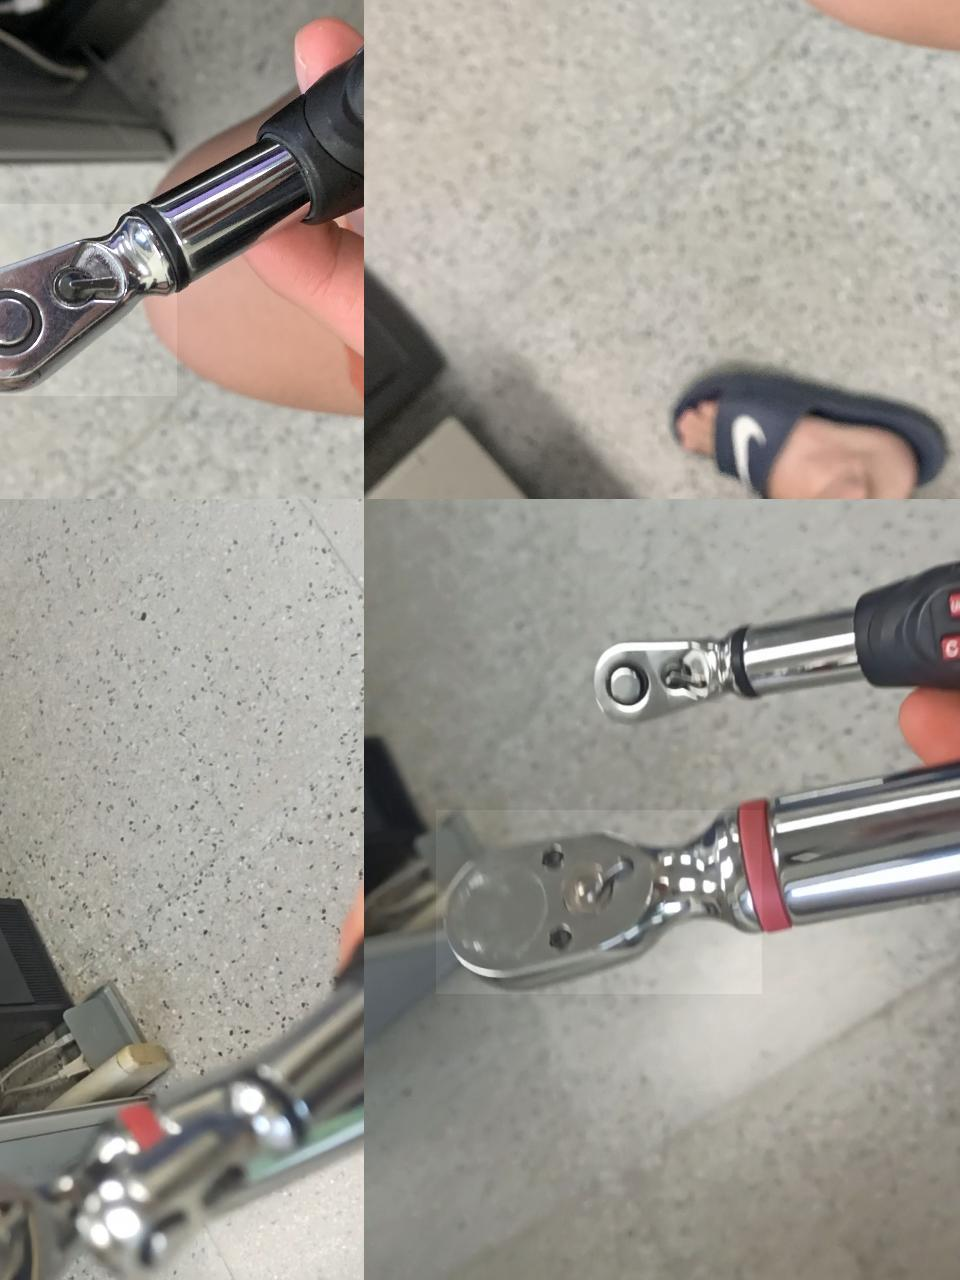Tool: (435, 809, 761, 993), (0, 203, 176, 395), (589, 626, 741, 731)
